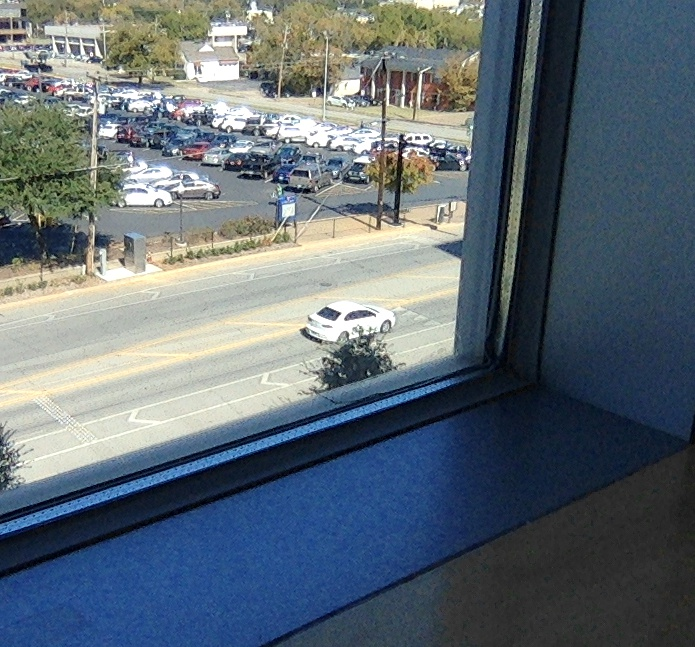car: (300, 300, 395, 347)
